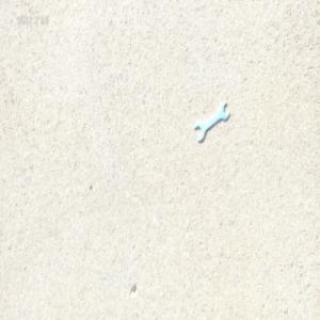Wrenchtrack_idkeyframe: (193, 103, 226, 141)
